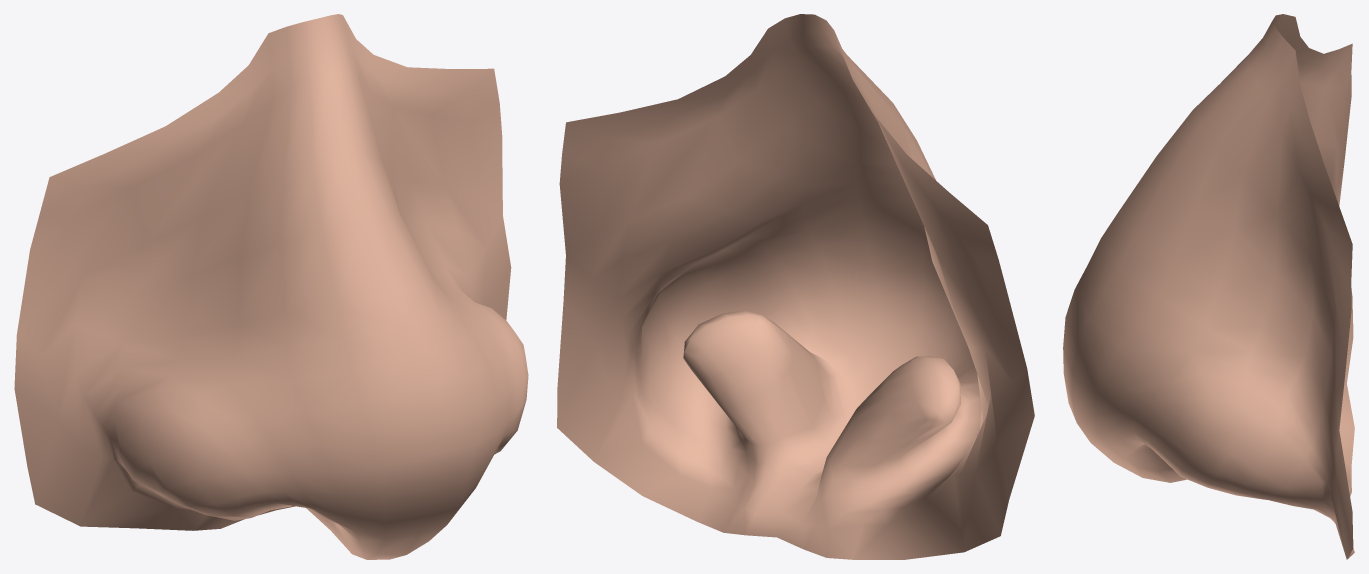
File: Nose 04.glb
The picture shows the model from 3 angles, left to right: view 1: azimuth 30°, elevation 25°; view 2: azimuth 150°, elevation 25°; view 3: azimuth 270°, elevation 25°; orthographic projection. The views are drawn at different scales.
Parts seen in each view (by area): view 1: nose04; view 2: nose04; view 3: nose04.
Boxes of the visible parts, left/top/right/bottom form: nose04: left=14, top=14, right=528, bottom=559; nose04: left=557, top=14, right=1034, bottom=559; nose04: left=1063, top=14, right=1354, bottom=559.
Bounding box in the file's own units: 0.00098 × 0.000995 × 0.000539.
